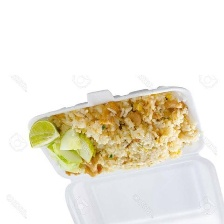foam_box: (21, 81, 223, 224)
